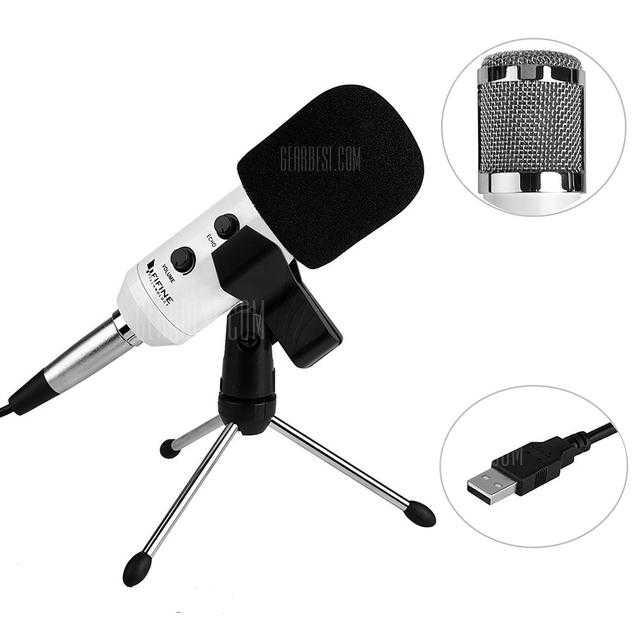microphone: (180, 81, 428, 373), (464, 38, 599, 214)
